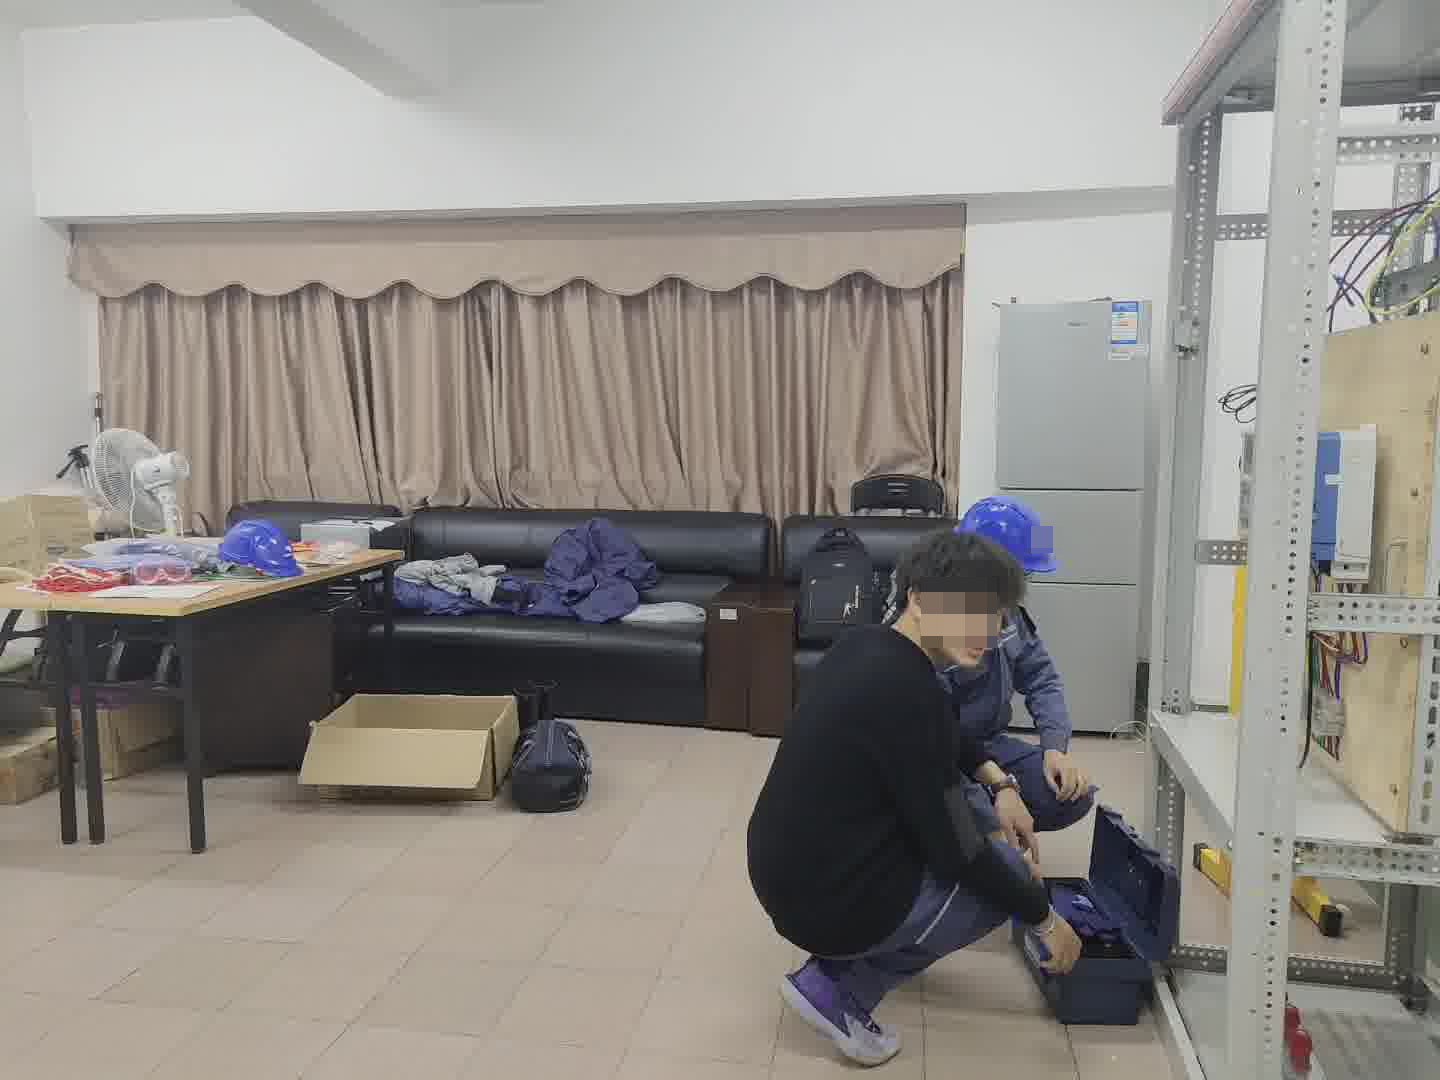halt: (978, 499, 1056, 588)
hand: (985, 791, 1063, 862), (1036, 745, 1097, 806), (1032, 913, 1084, 980)
noear: (897, 585, 945, 640)
person: (761, 518, 1050, 1051), (911, 496, 1109, 820)
unhalt: (898, 530, 1026, 661)
upcloth: (767, 630, 936, 924)
upsuit: (944, 610, 1075, 747)
